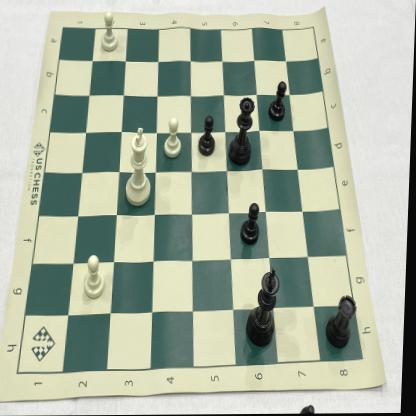black-king: (245, 264, 284, 353)
black-pawn: (238, 198, 266, 250), (266, 77, 290, 126), (196, 114, 219, 162)
black-queen: (226, 93, 258, 172)
black-rook: (324, 290, 360, 352)
white-king: (122, 125, 158, 209)
white-pawn: (80, 250, 110, 300), (95, 9, 123, 55), (160, 113, 186, 162)
